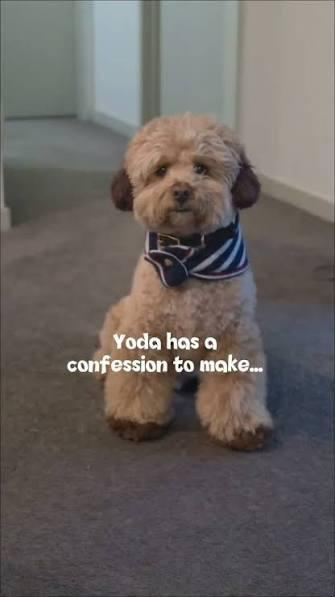adult_dog: (97, 109, 275, 454)
